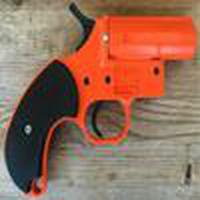gun: (4, 3, 197, 197)
